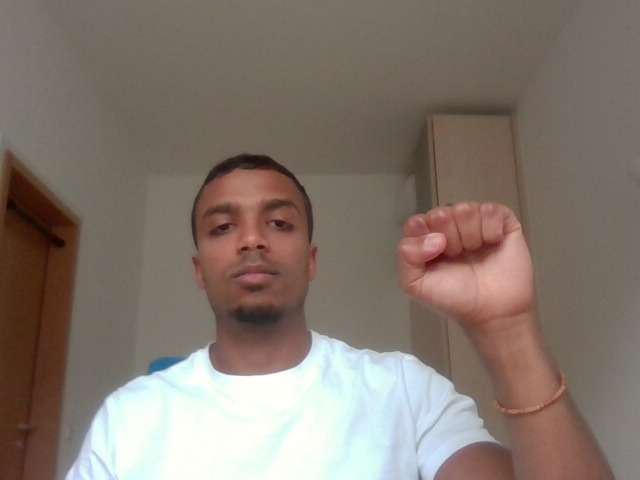neutral: (370, 189, 558, 335)
